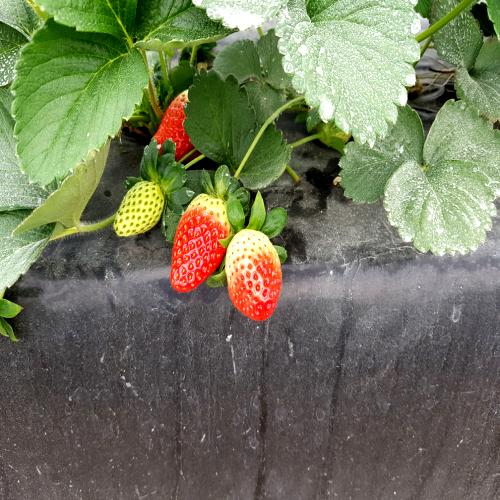partially-ripe: (166, 171, 231, 302), (225, 213, 293, 331)
